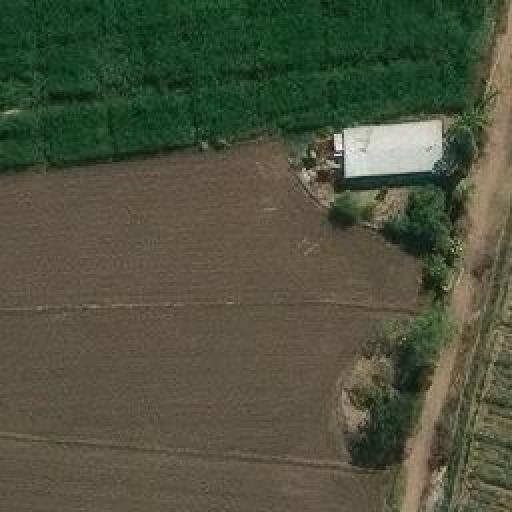manzanas: (307, 115, 455, 193)
